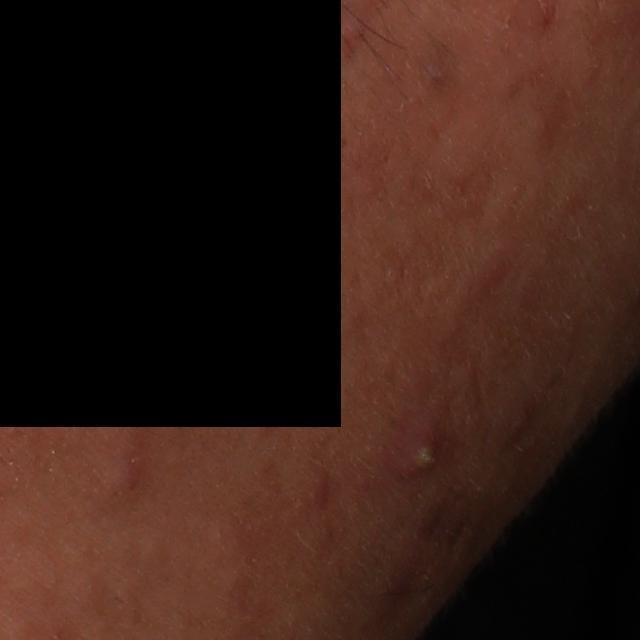pustule: (383, 417, 454, 490)
